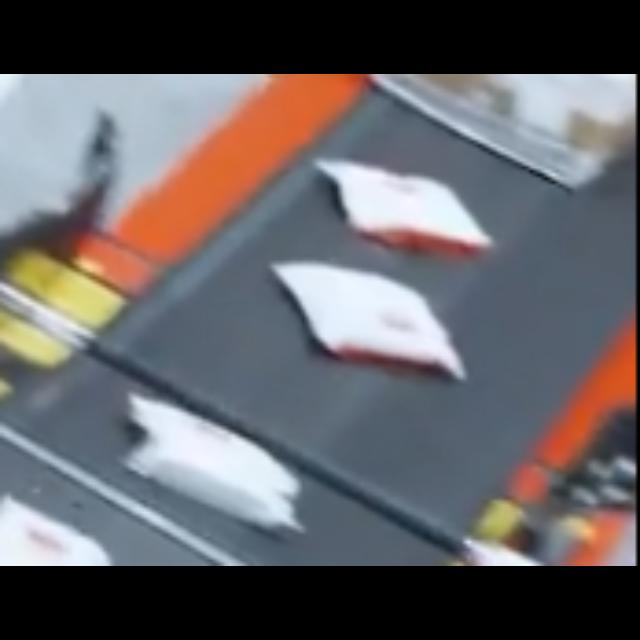mailer: (130, 396, 304, 534), (278, 260, 460, 386), (323, 156, 495, 256)
